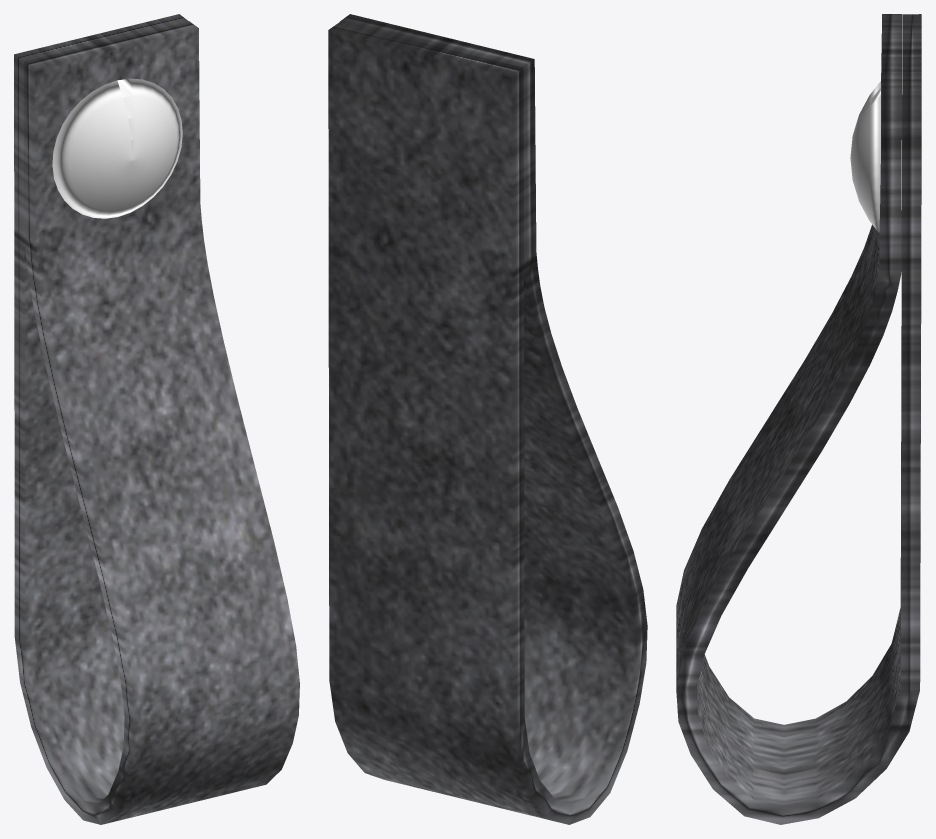
Rendered from 976.fixed.glb.
The picture shows the model from 3 angles, left to right: view 1: azimuth 30°, elevation 25°; view 2: azimuth 150°, elevation 25°; view 3: azimuth 270°, elevation 25°; orthographic projection. The views are drawn at different scales.
Parts seen in each view (by area): view 1: leather, chrome03; view 2: leather; view 3: leather, chrome03.
Part boxes in pixels (left/top/right/bottom): leather: left=14, top=14, right=299, bottom=824; chrome03: left=52, top=78, right=182, bottom=218; leather: left=328, top=14, right=647, bottom=824; leather: left=676, top=14, right=921, bottom=824; chrome03: left=850, top=81, right=880, bottom=232.
Bounding box in the file's own units: 0.02 × 0.0827 × 0.0252.
2 materials, 1 textured.
